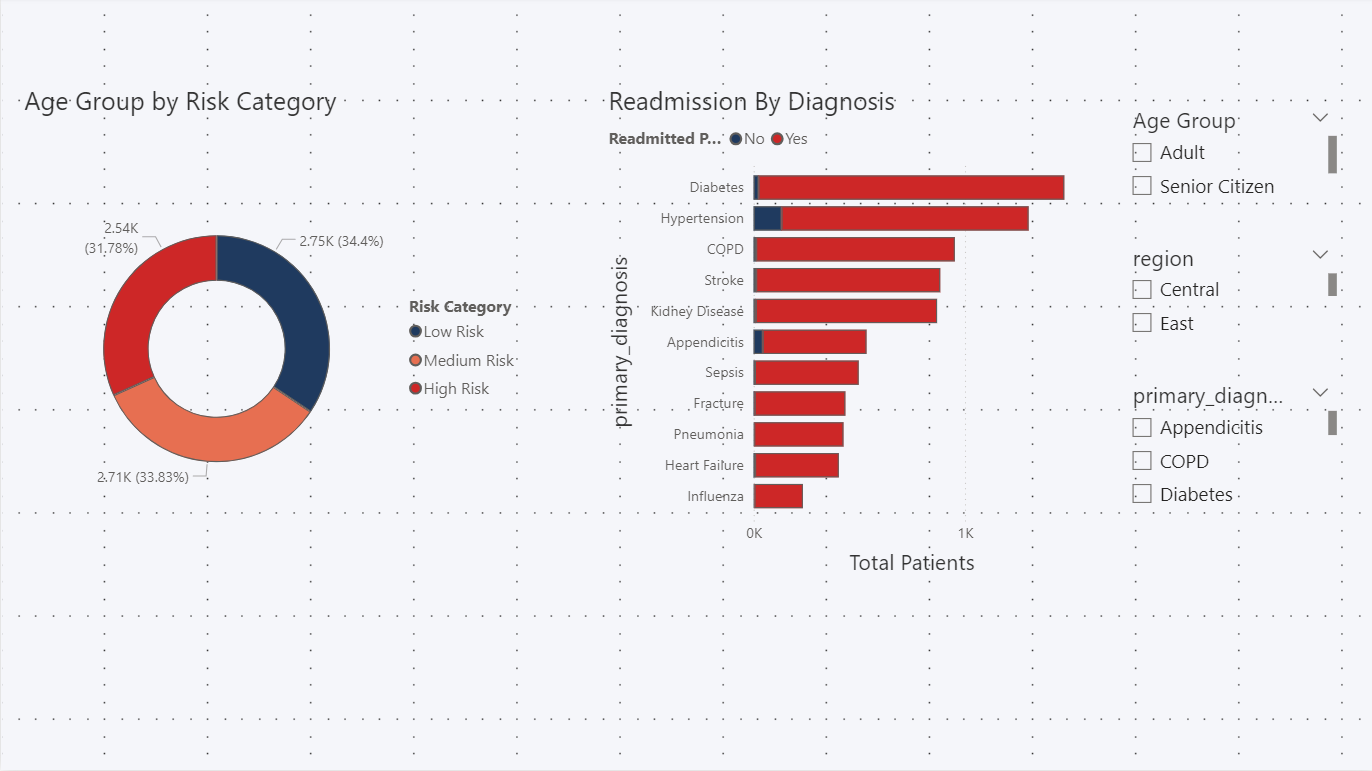

This screenshot's page, from the dashboard's own definition file:
{"tool":"powerbi","page":{"name":"Patient Risk","canvas":[1280,720],"ordinal":1},"visuals":[{"type":"barChart","title":"Readmission By Diagnosis","fields":{"Category":["hospital_readmission_dataset.primary_diagnosis"],"Series":["hospital_readmission_dataset.Readmitted Patients"],"Y":["CountNonNull(hospital_readmission_dataset.patient_id)"]},"box":[560,80,448,464],"z":0},{"type":"donutChart","fields":{"Category":["hospital_readmission_dataset.Risk Category"],"Y":["CountNonNull(hospital_readmission_dataset.Age Group)"]},"box":[16,80,480,464],"z":1000},{"type":"slicer","fields":{"Values":["hospital_readmission_dataset.Age Group"]},"box":[1040,96,208,96],"z":2000},{"type":"slicer","fields":{"Values":["hospital_readmission_dataset.region"]},"box":[1040,224,208,96],"z":3000},{"type":"slicer","fields":{"Values":["hospital_readmission_dataset.primary_diagnosis"]},"box":[1040,352,208,128],"z":4000}]}

Visuals, with their boxes in screenshot pixels (x1, y1, x2, y2), scaled from the page's 1280x720 canvas onto the 1372x771 screenshot:
"Readmission By Diagnosis" barChart: rect(600, 86, 1080, 583)
donutChart - hospital_readmission_dataset.Risk Category x CountNonNull(hospital_readmission_dataset.Age Group): rect(17, 86, 532, 583)
slicer - hospital_readmission_dataset.Age Group: rect(1115, 103, 1338, 206)
slicer - hospital_readmission_dataset.region: rect(1115, 240, 1338, 343)
slicer - hospital_readmission_dataset.primary_diagnosis: rect(1115, 377, 1338, 514)
